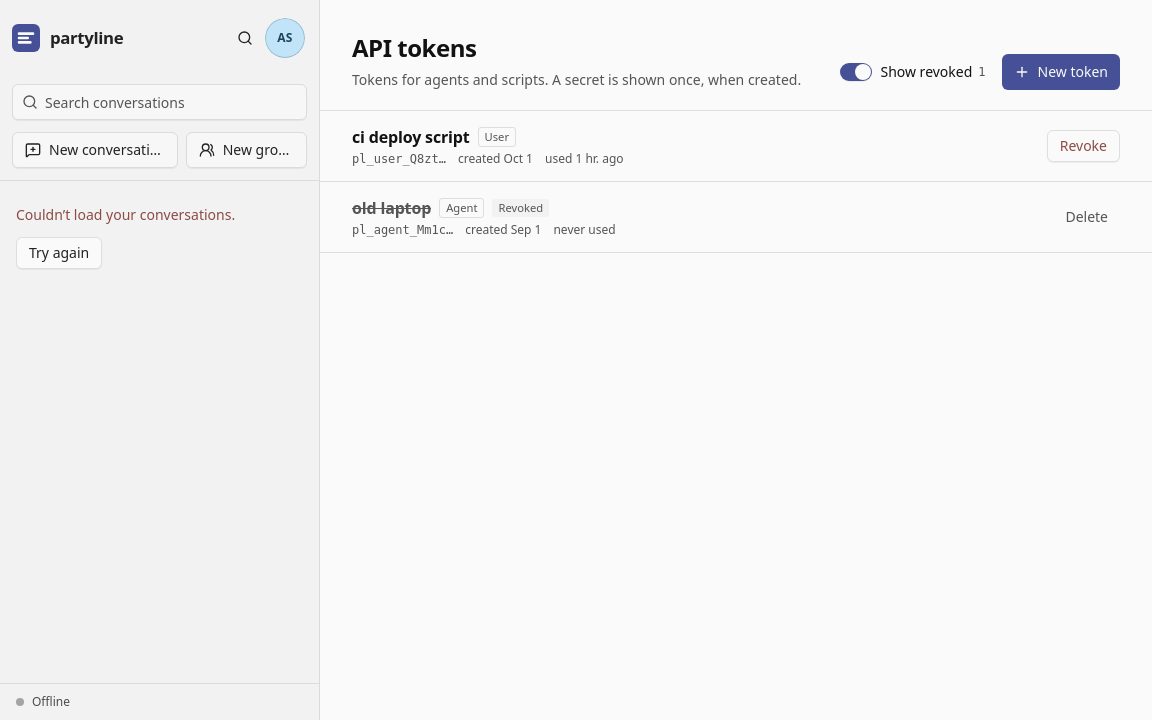
Test: revoked tokens (TOKH-04) › keeps the row and says so when the delete fails
The width and height of the screenshot is (1152, 720).
Click the button with aria-label "Delete old laptop": (1087, 217) [1053, 201, 1120, 233]
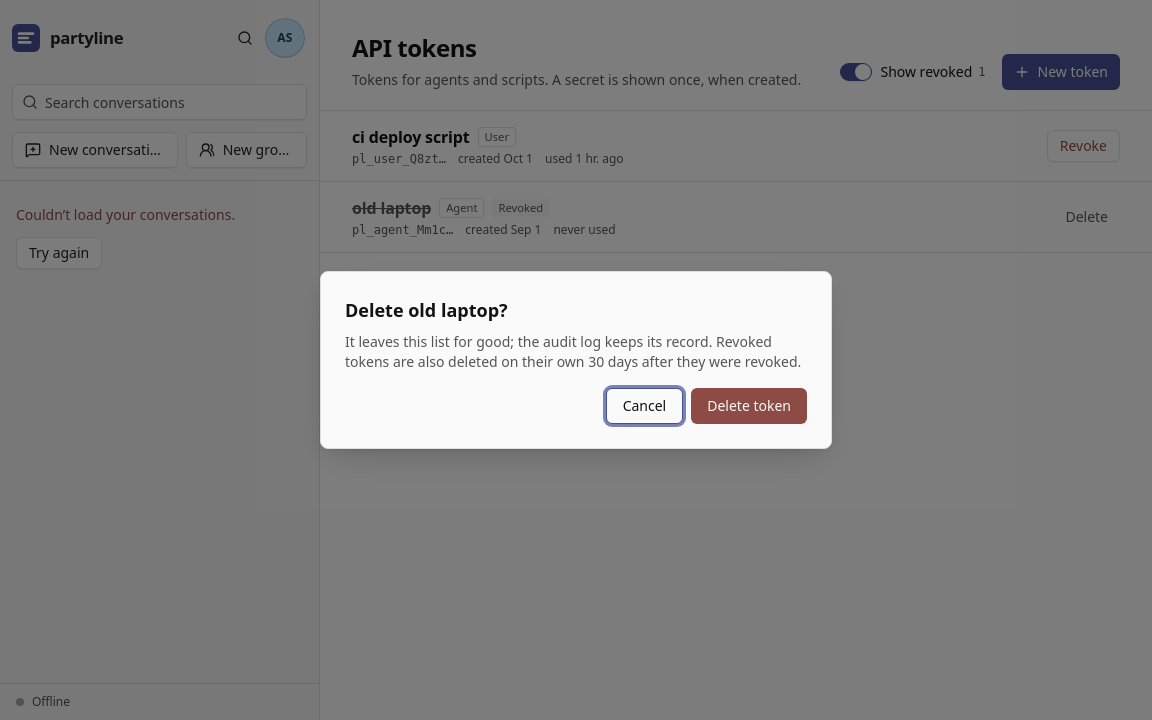
Click the button "Delete token": (749, 406) [691, 388, 807, 424]
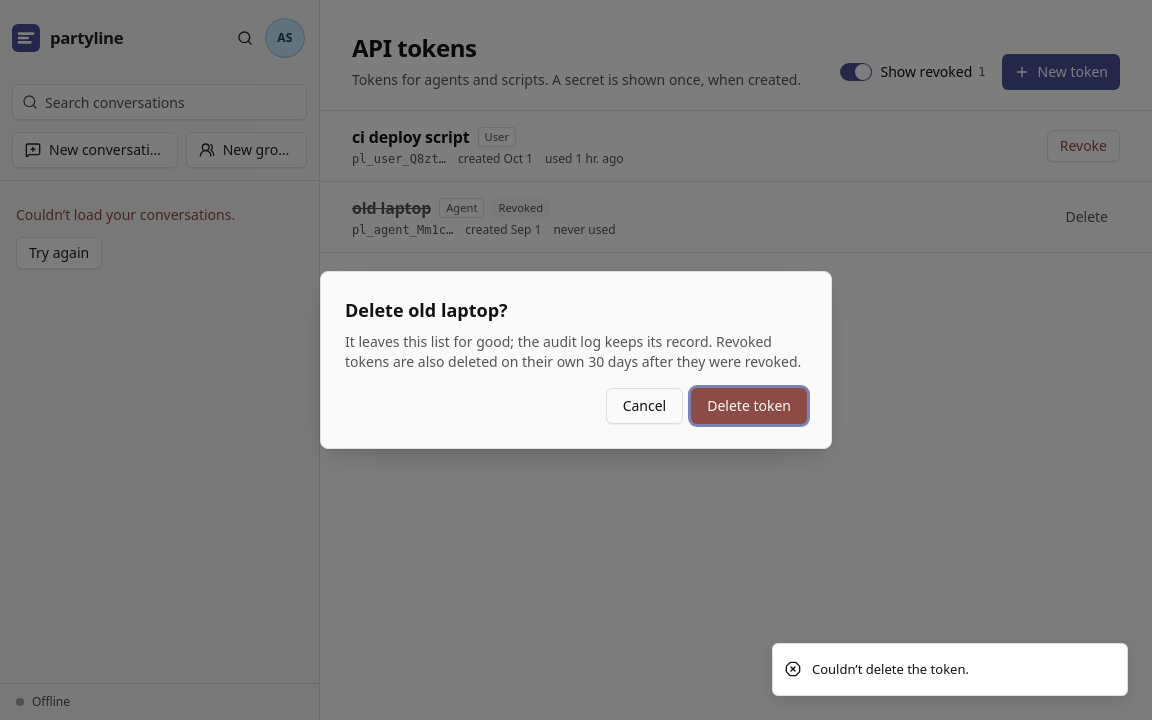
Expected: the list item "old laptop" is shown, [352, 197, 1120, 238]
Result: the dialog is shown at [320, 271, 832, 449]
Result: the text "Couldn’t delete the token." is shown at [812, 660, 969, 679]
